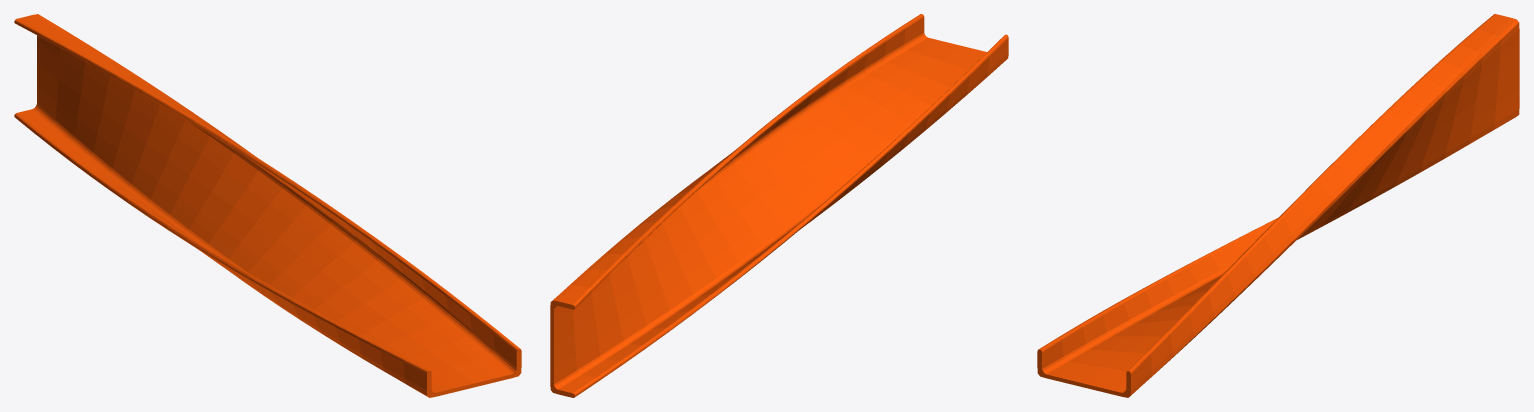
Rendered from Reta twist 90.FBX.
3 renders of one model, left to right at view 1: azimuth 30°, elevation 25°; view 2: azimuth 150°, elevation 25°; view 3: azimuth 330°, elevation 25°, orthographic. The views are drawn at different scales.
Visible parts, largest first — view 1: Reta twist 90; view 2: Reta twist 90; view 3: Reta twist 90.
Boxes of the visible parts, bbox=[...] form: Reta twist 90: bbox=[14, 14, 521, 397]; Reta twist 90: bbox=[550, 14, 1008, 397]; Reta twist 90: bbox=[1037, 14, 1519, 397].
Size of the model in its own units: 261 by 261 by 2000.
